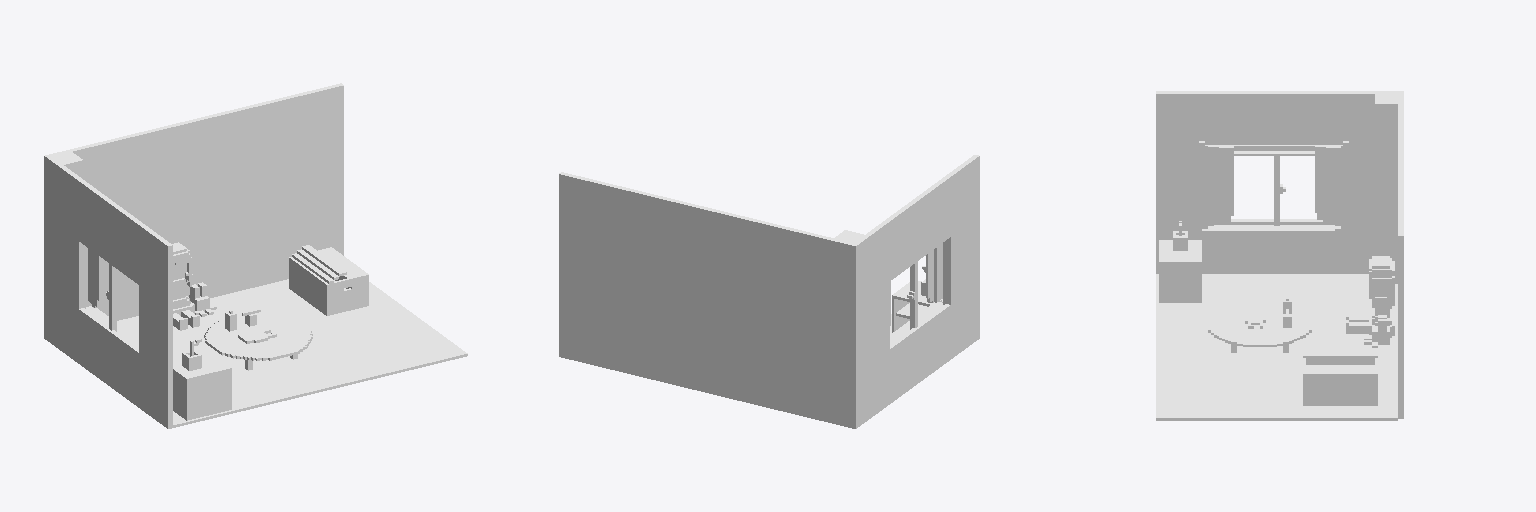
File: spctr_room.obj
The picture shows the model from 3 angles: view 1: azimuth 30°, elevation 25°; view 2: azimuth 150°, elevation 25°; view 3: azimuth 270°, elevation 25°; orthographic projection.
Parts seen in each view (by area): view 1: object 1; view 2: object 1; view 3: object 1.
Part boxes in pixels (bbox=[...]): object 1: bbox=[44, 83, 467, 428]; object 1: bbox=[559, 155, 979, 428]; object 1: bbox=[1156, 91, 1403, 420].
Bounding box in the file's own units: 12 × 7 × 8.6.